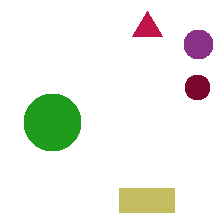circle: (24, 94, 80, 150), (184, 30, 212, 58), (185, 75, 209, 99)
rectangle: (119, 188, 174, 212)
triangle: (132, 11, 162, 36)
